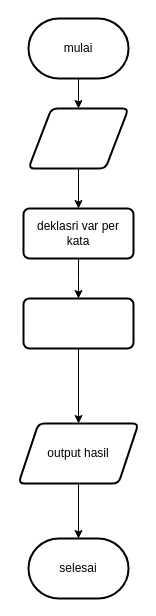
This 156x616 diagram has some shape labels left out. Each missing label, with the centre of its shape:
"balik kata menjadi kalimat terbalik" belongs at pixel 78 323.
"input nilai x" belongs at pixel 78 138.
